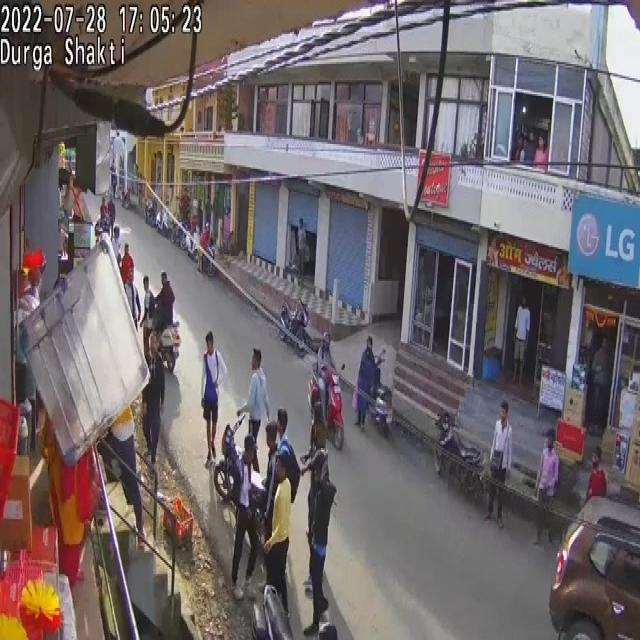fight: (214, 338, 336, 631)
non-fight: (300, 425, 332, 630), (102, 403, 145, 550), (228, 435, 266, 600), (13, 259, 44, 452), (262, 447, 294, 620), (483, 398, 513, 526), (237, 348, 271, 458), (532, 427, 561, 546), (201, 332, 227, 464), (141, 335, 166, 464), (354, 334, 379, 427), (313, 330, 338, 422), (513, 294, 531, 384), (122, 250, 140, 332), (140, 276, 156, 362), (154, 273, 175, 335), (585, 448, 607, 501), (297, 218, 308, 276), (110, 166, 118, 199), (108, 198, 116, 230)
